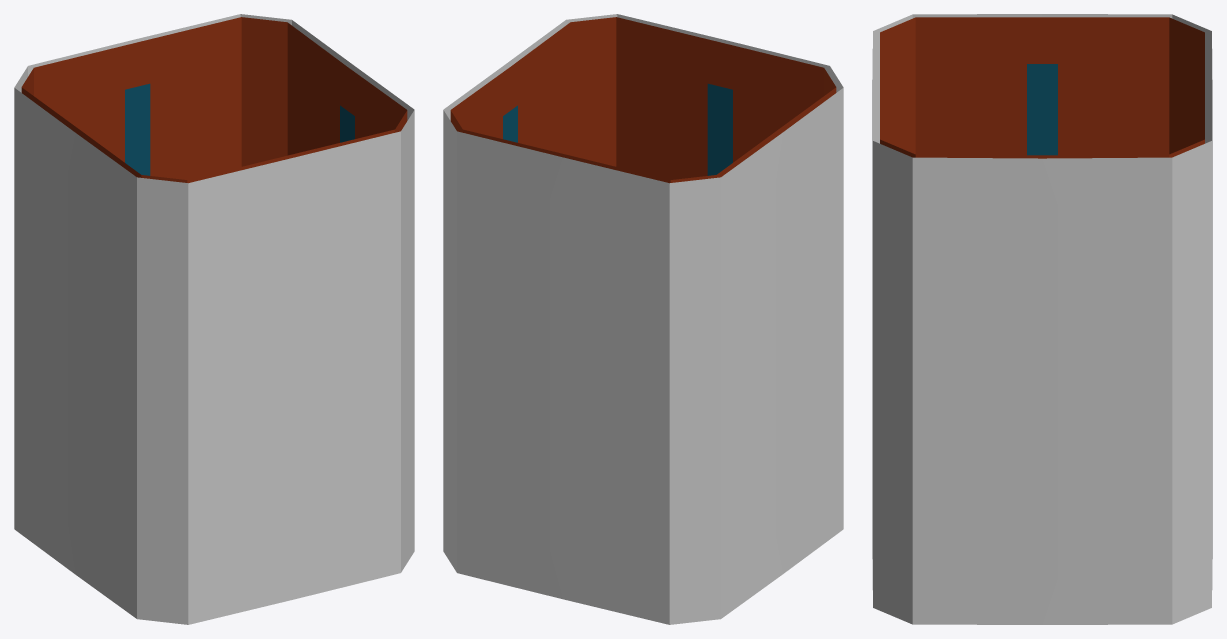
The model's file is Pilar_1B.fbx.
3 views of the same model, side by side, from view 1: azimuth 30°, elevation 25°; view 2: azimuth 150°, elevation 25°; view 3: azimuth 270°, elevation 25° (orthographic). The views are drawn at different scales.
Parts seen in each view (by area): view 1: Pilar_1B; view 2: Pilar_1B; view 3: Pilar_1B.
Part boxes in pixels (x1,y1,x2,y2): Pilar_1B: (14,14,414,624); Pilar_1B: (443,14,843,624); Pilar_1B: (872,14,1212,624).
Size of the model in its own units: 1.32 by 1.32 by 2.
